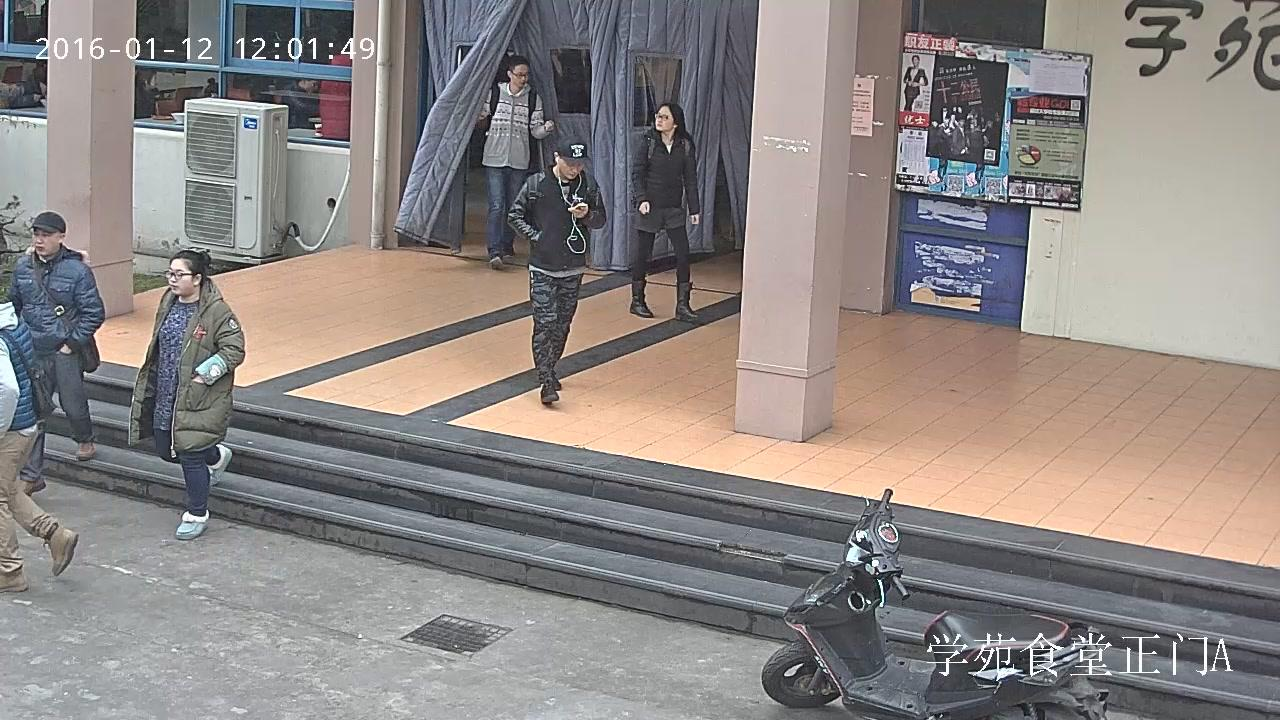person: (126, 249, 244, 542), (507, 135, 605, 404), (1, 282, 79, 597), (9, 212, 106, 459), (469, 53, 554, 268), (627, 100, 704, 322), (279, 77, 319, 127), (900, 54, 928, 112)
